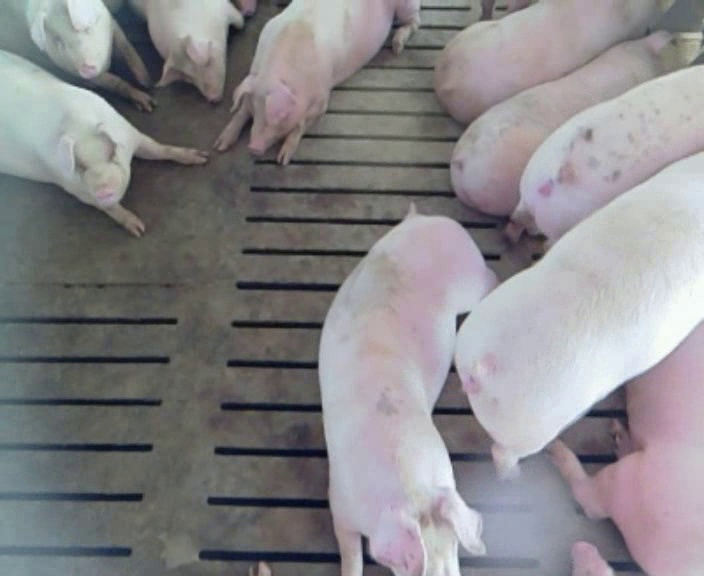pig: (456, 152, 703, 476), (319, 209, 496, 574), (450, 31, 701, 214), (504, 65, 703, 252), (215, 2, 419, 164), (435, 2, 670, 123), (0, 2, 155, 111)
